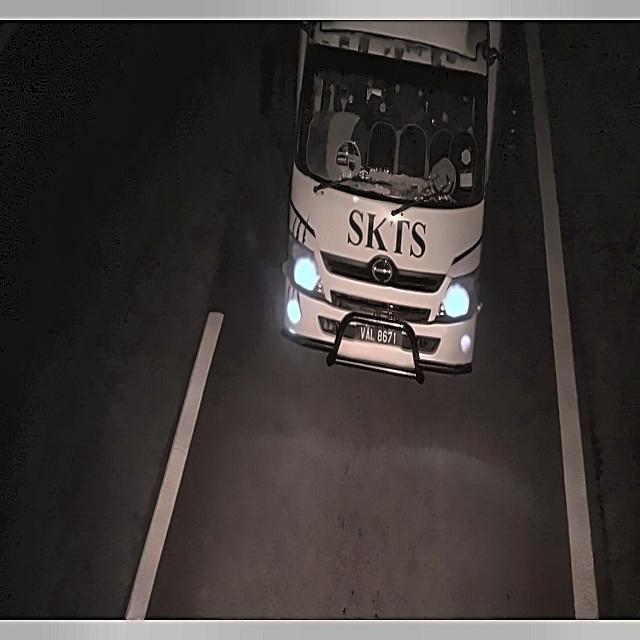car: (356, 317, 403, 356)
